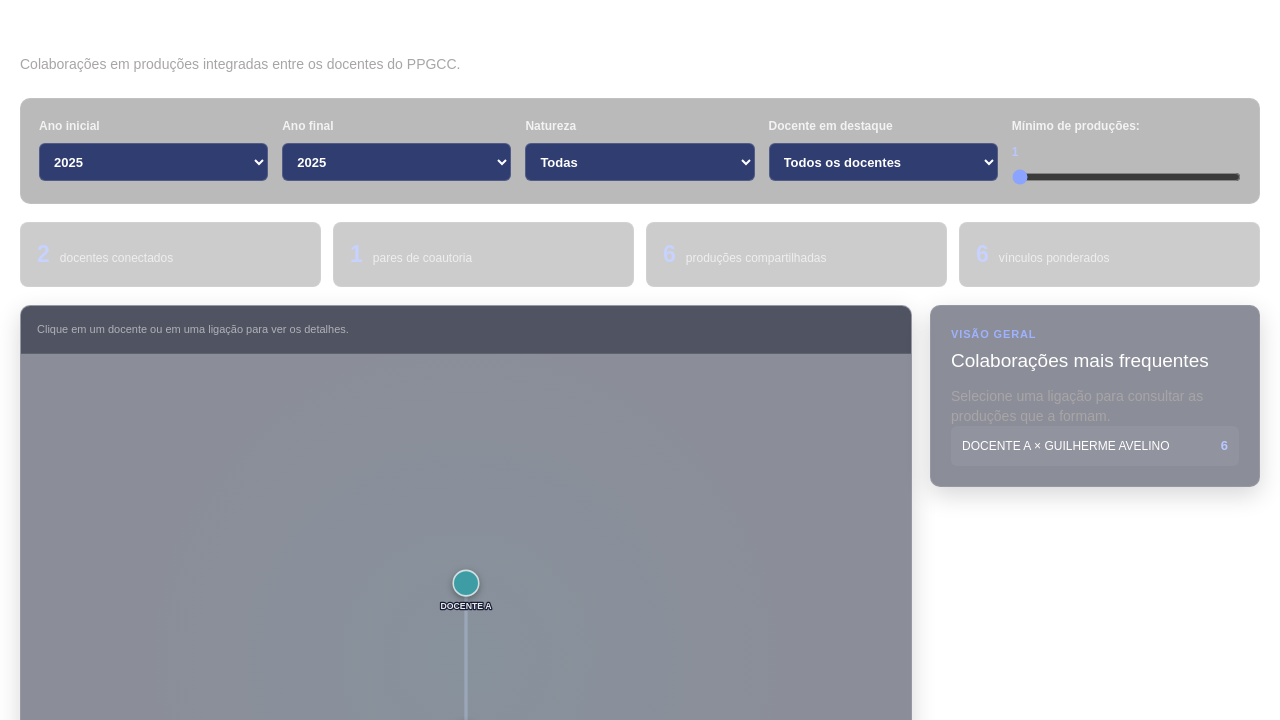
Test: RedeCoautoria › exibe as produções ao selecionar uma colaboração na visão do docente
Select "DOCENTE A" in the dropdown labelled "Docente em destaque": (883, 162) 769,143 -> 998,181
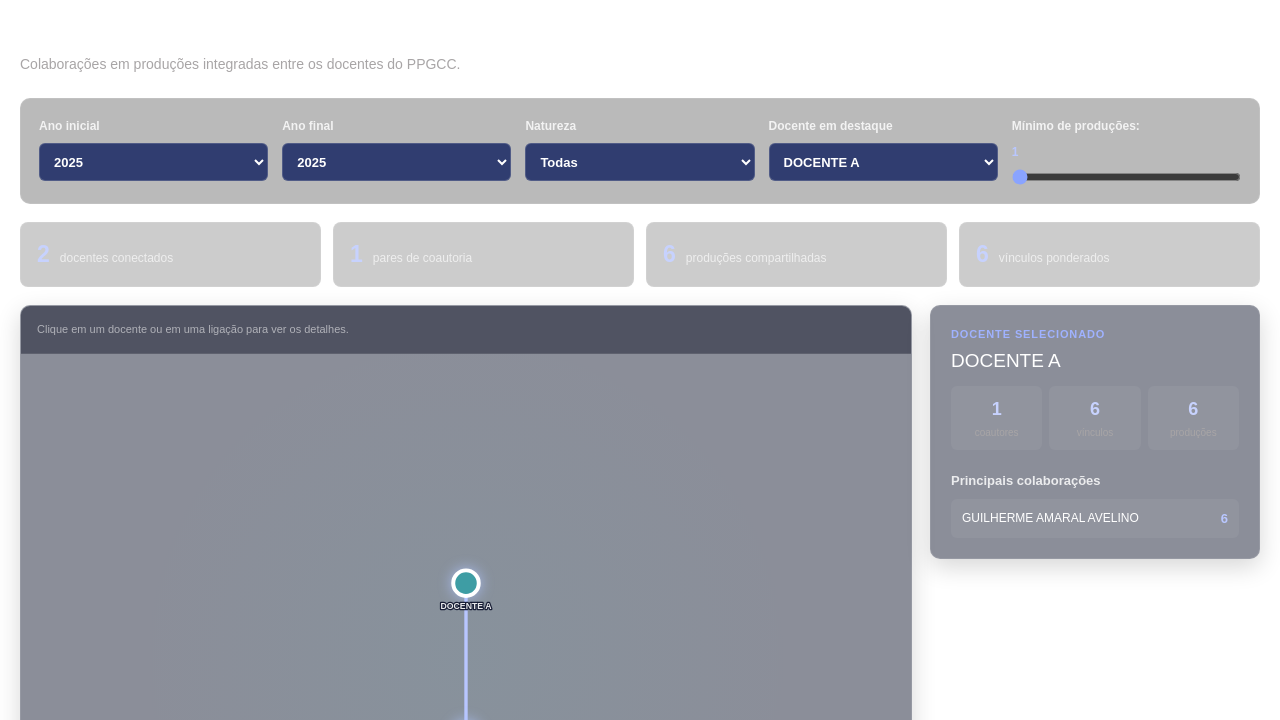
Now the heading "Principais colaborações" is shown, box 951,473 -> 1101,488
Click the button "GUILHERME AMARAL AVELINO 6": (1095, 518) 951,498 -> 1239,538
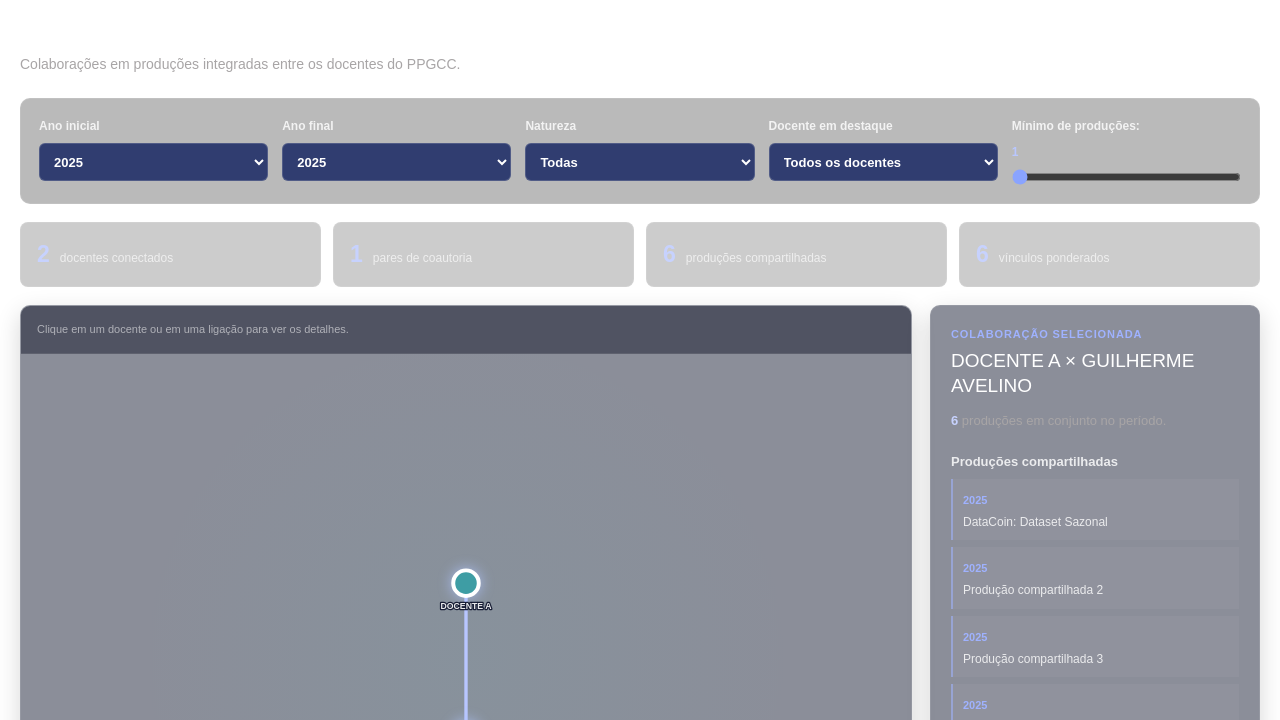
Now the heading "Produções compartilhadas" is shown, box 951,454 -> 1118,469
Now the text "DataCoin: Dataset Sazonal" is shown, box 963,515 -> 1108,529
